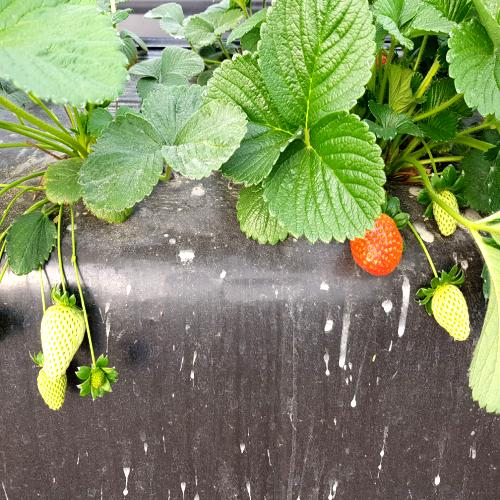ripe: (345, 202, 407, 279)
unripe: (30, 293, 91, 387)
